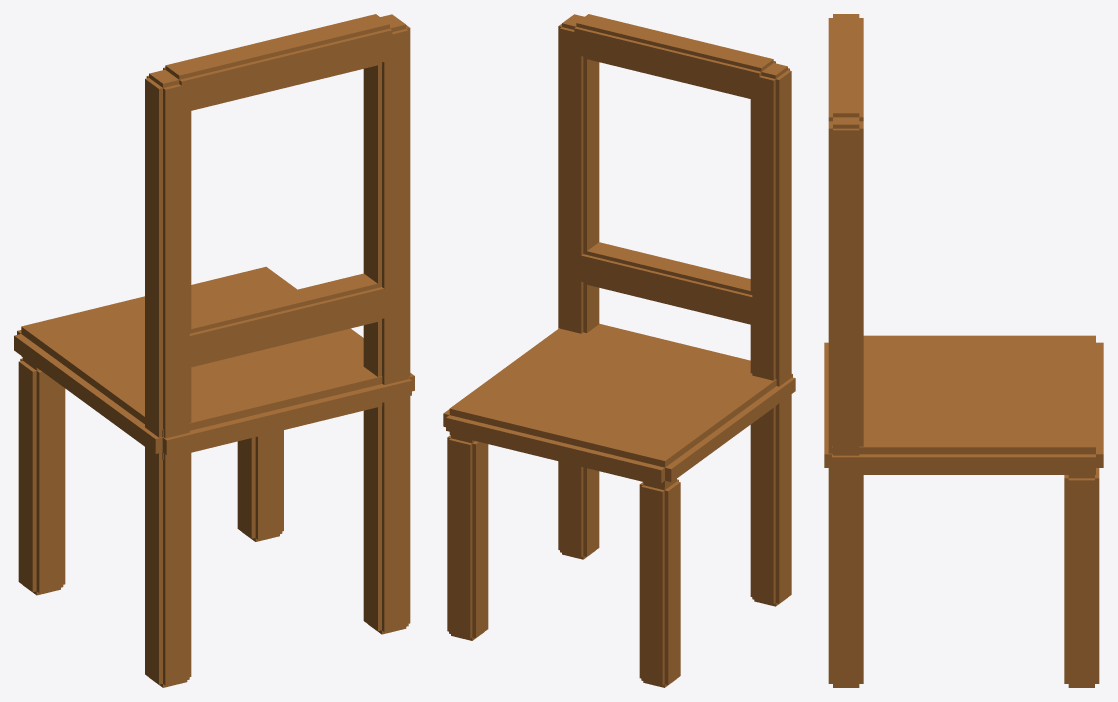
Rendered from lihzahrd_chair_v0.glb.
The picture shows the model from 3 angles, left to right: view 1: azimuth 30°, elevation 25°; view 2: azimuth 150°, elevation 25°; view 3: azimuth 270°, elevation 25°; orthographic projection. The views are drawn at different scales.
Parts seen in each view (by area): view 1: lihzahrd_chair_v0; view 2: lihzahrd_chair_v0; view 3: lihzahrd_chair_v0.
Boxes of the visible parts, bbox=[...] form: lihzahrd_chair_v0: bbox=[14, 14, 414, 687]; lihzahrd_chair_v0: bbox=[443, 14, 795, 687]; lihzahrd_chair_v0: bbox=[824, 14, 1103, 687].
Size of the model in its own units: 0.64 by 1.43 by 0.64.
